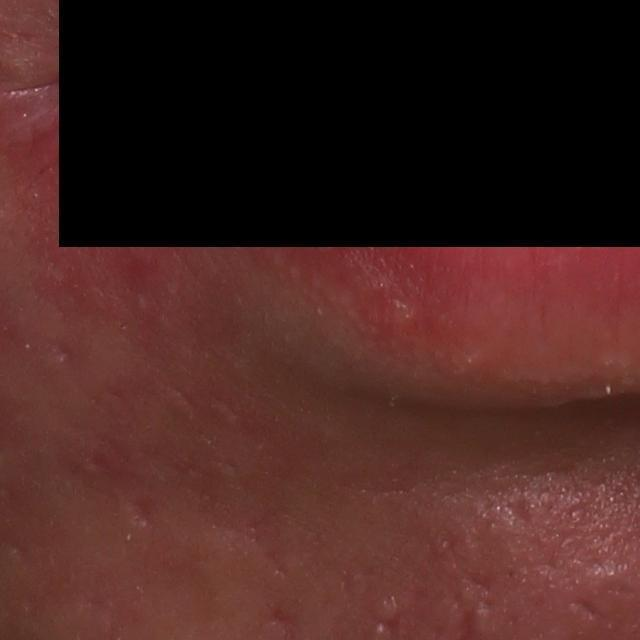atrophic_scar: (118, 493, 166, 534)
hypertrophic_scar: (469, 601, 498, 638), (368, 594, 399, 622)
